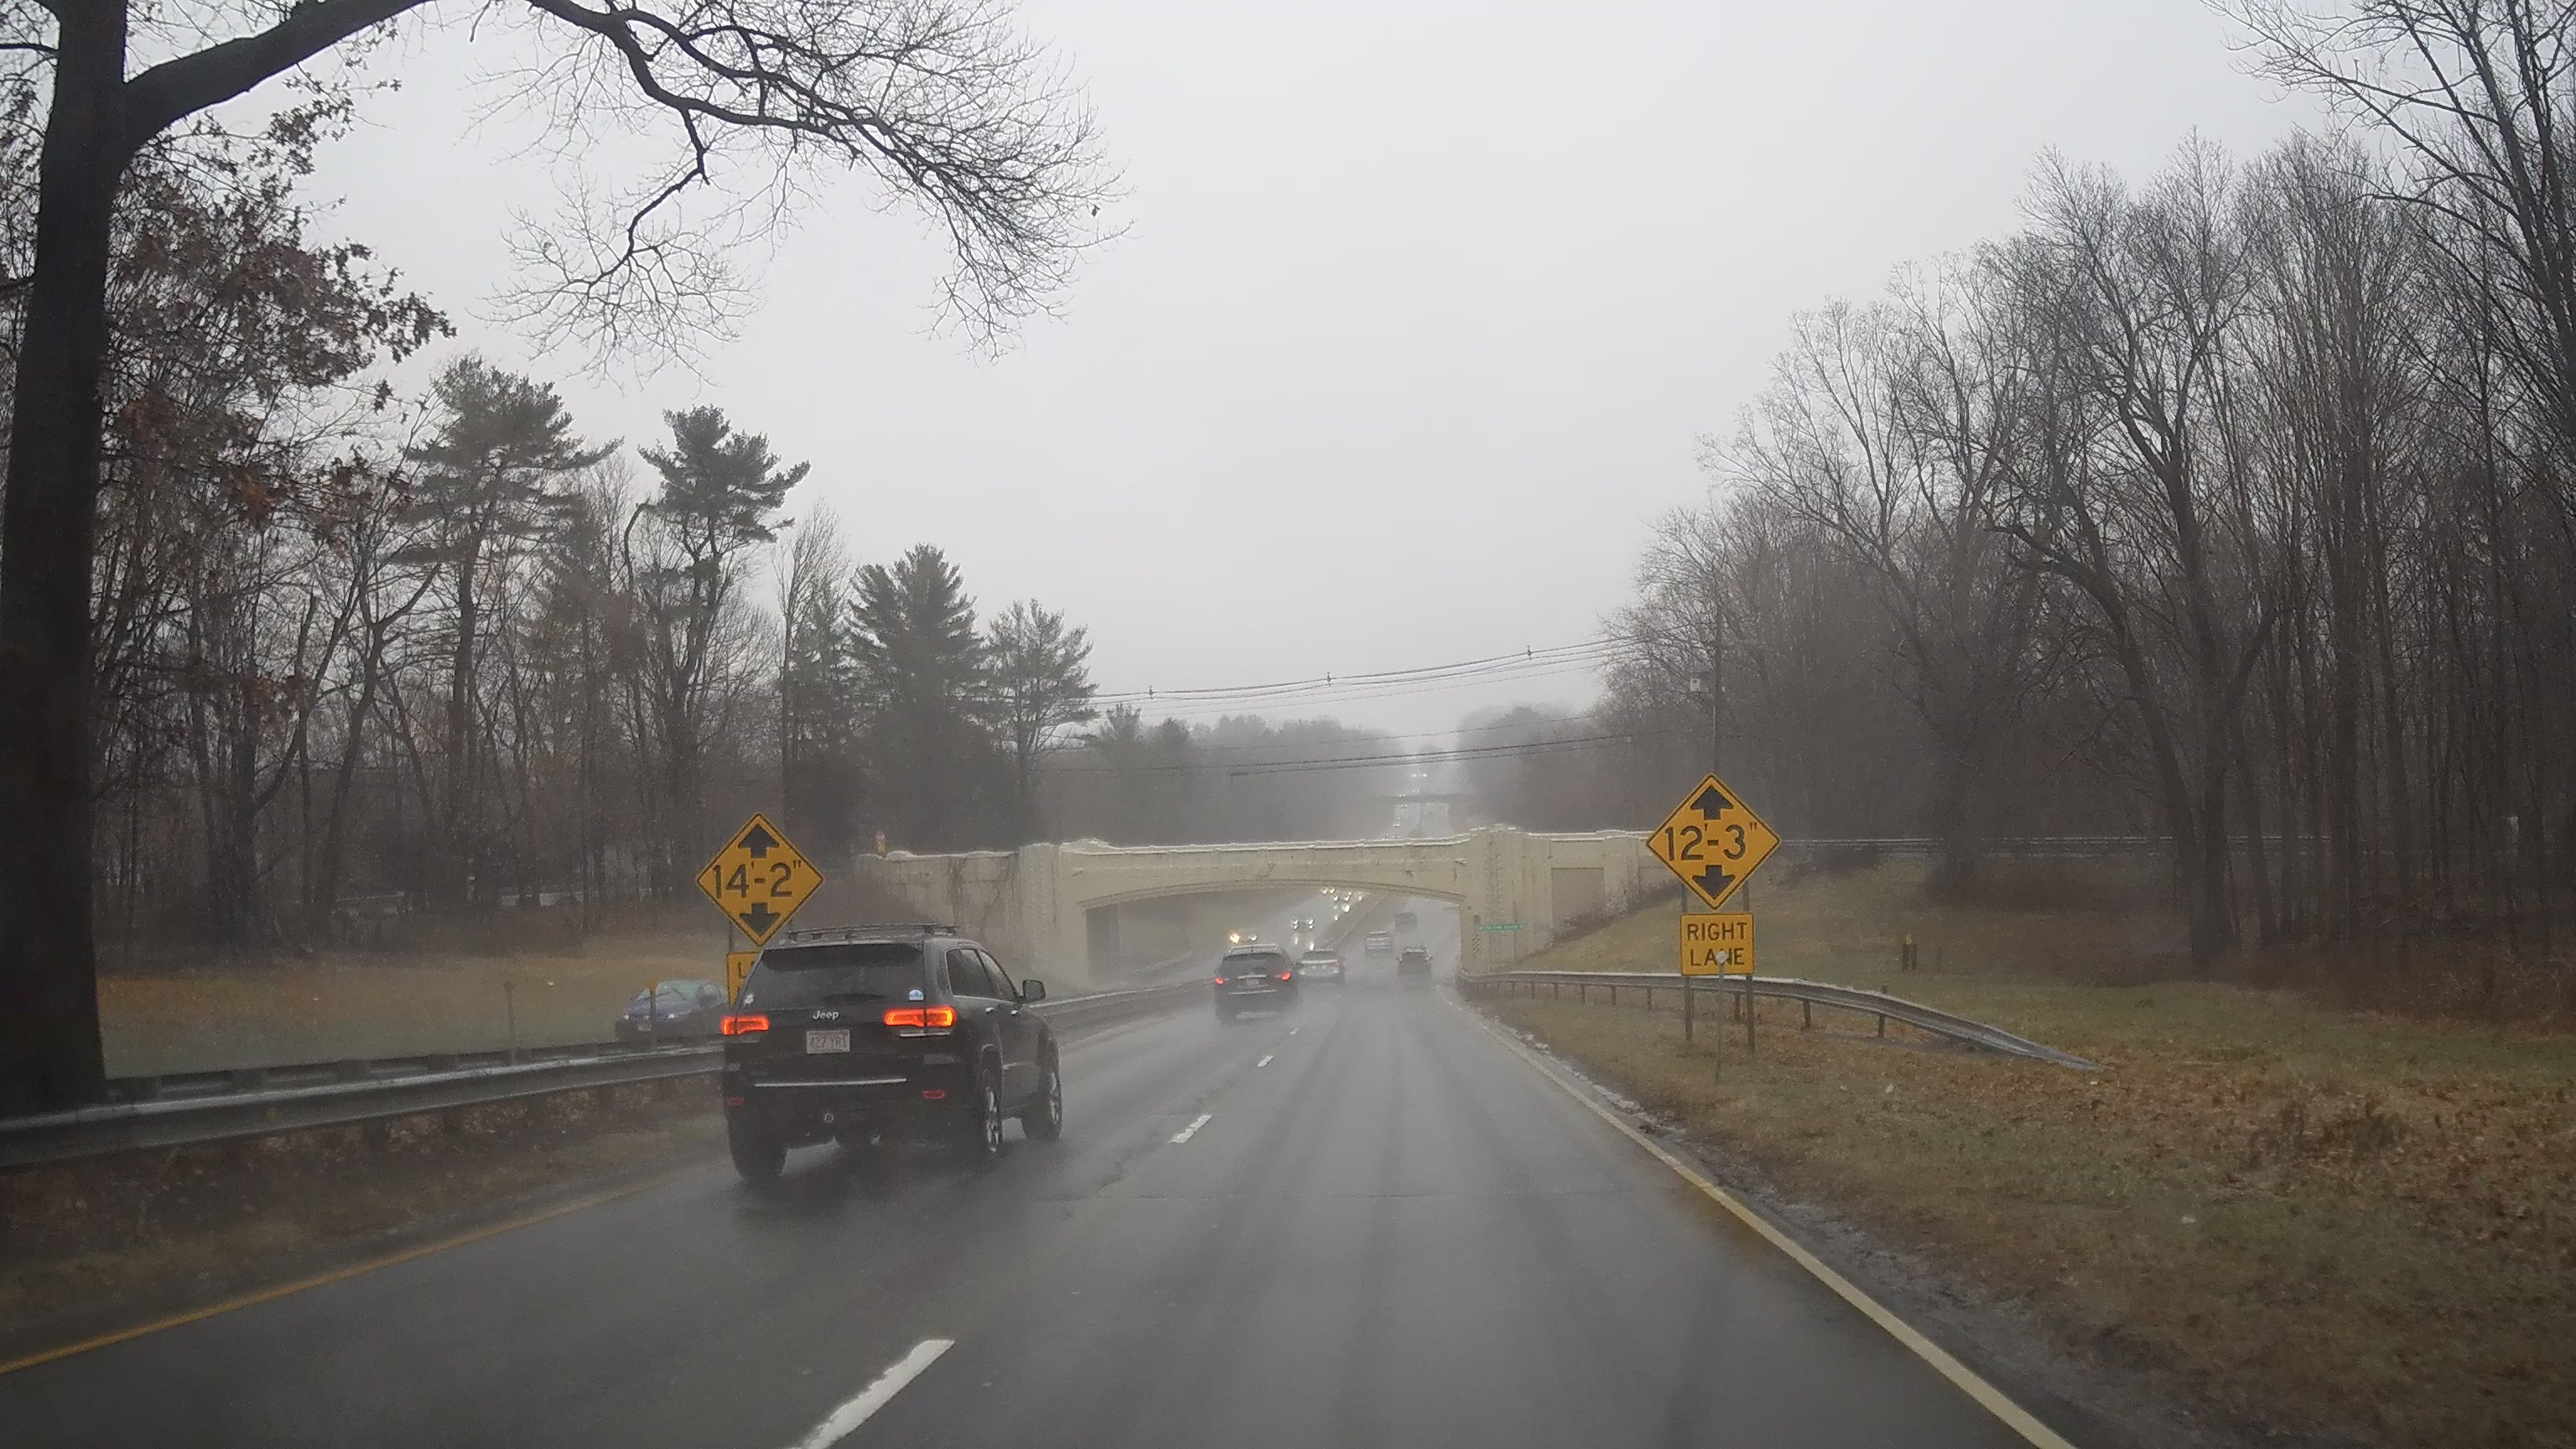low-clearance-sign: (1645, 773, 1783, 915), (694, 810, 824, 947)
